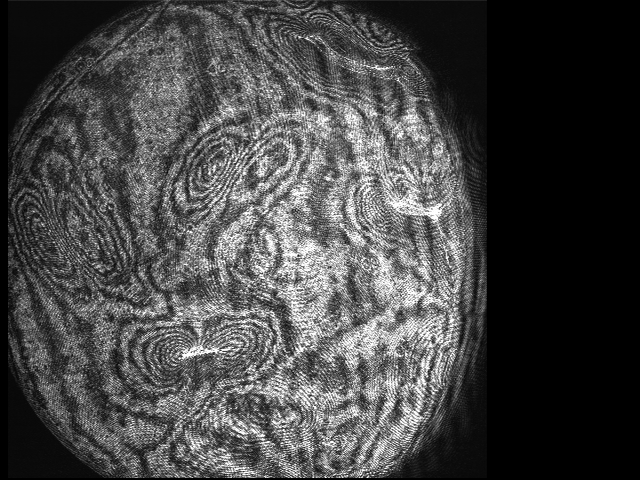plume: (124, 314, 290, 394)
